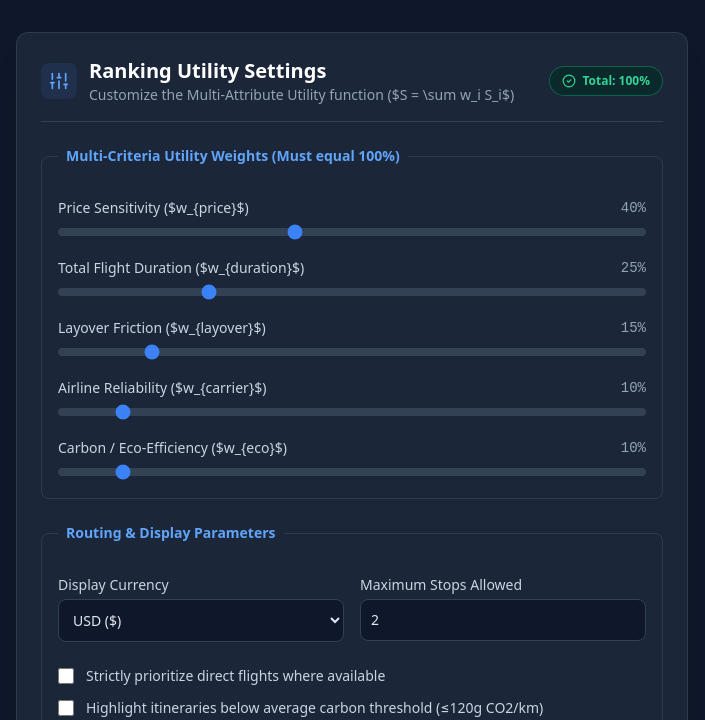
SettingsForm Component (Round 2) › resets form weights to defaults when "Reset to Defaults" is clicked
Set the slider labelled "Price Sensitivity ($w_{price}$)" to "80" at (524, 232), box [58,228,646,236]
(page scrolled)
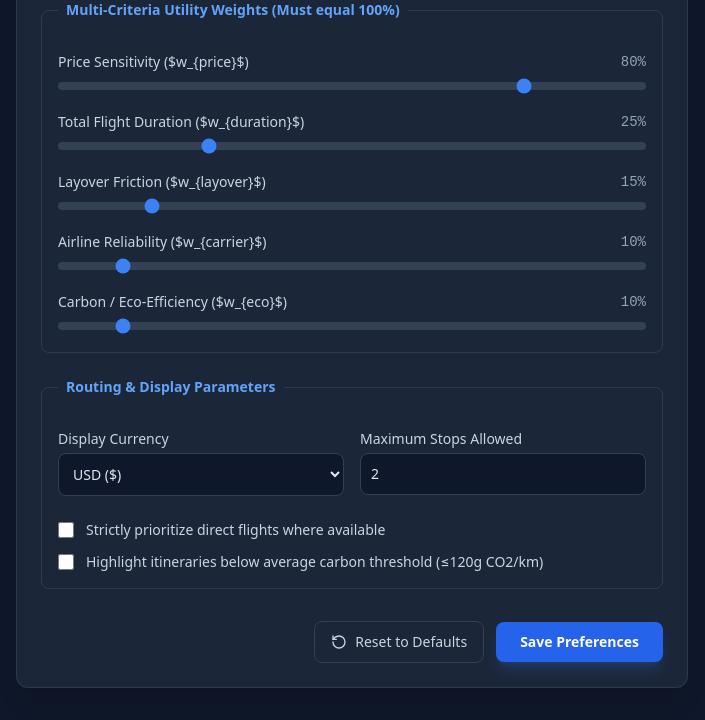
Click the button "Reset to Defaults" at (399, 642), box [314,621,484,663]
(page scrolled)
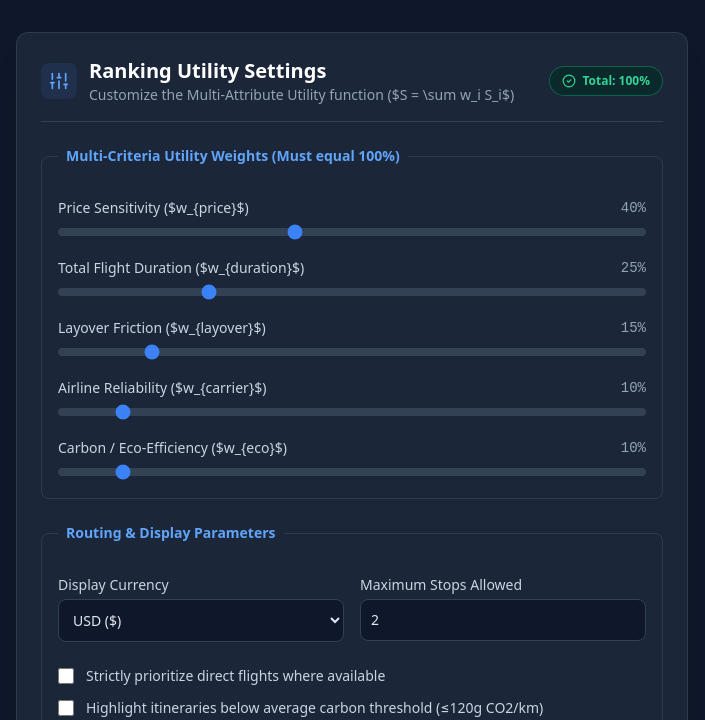
Expected: the slider labelled "Price Sensitivity ($w_{price}$)" holds "40", [58,228,646,236]
Expected: the text "Total: 100%" is shown, [582,73,650,89]
